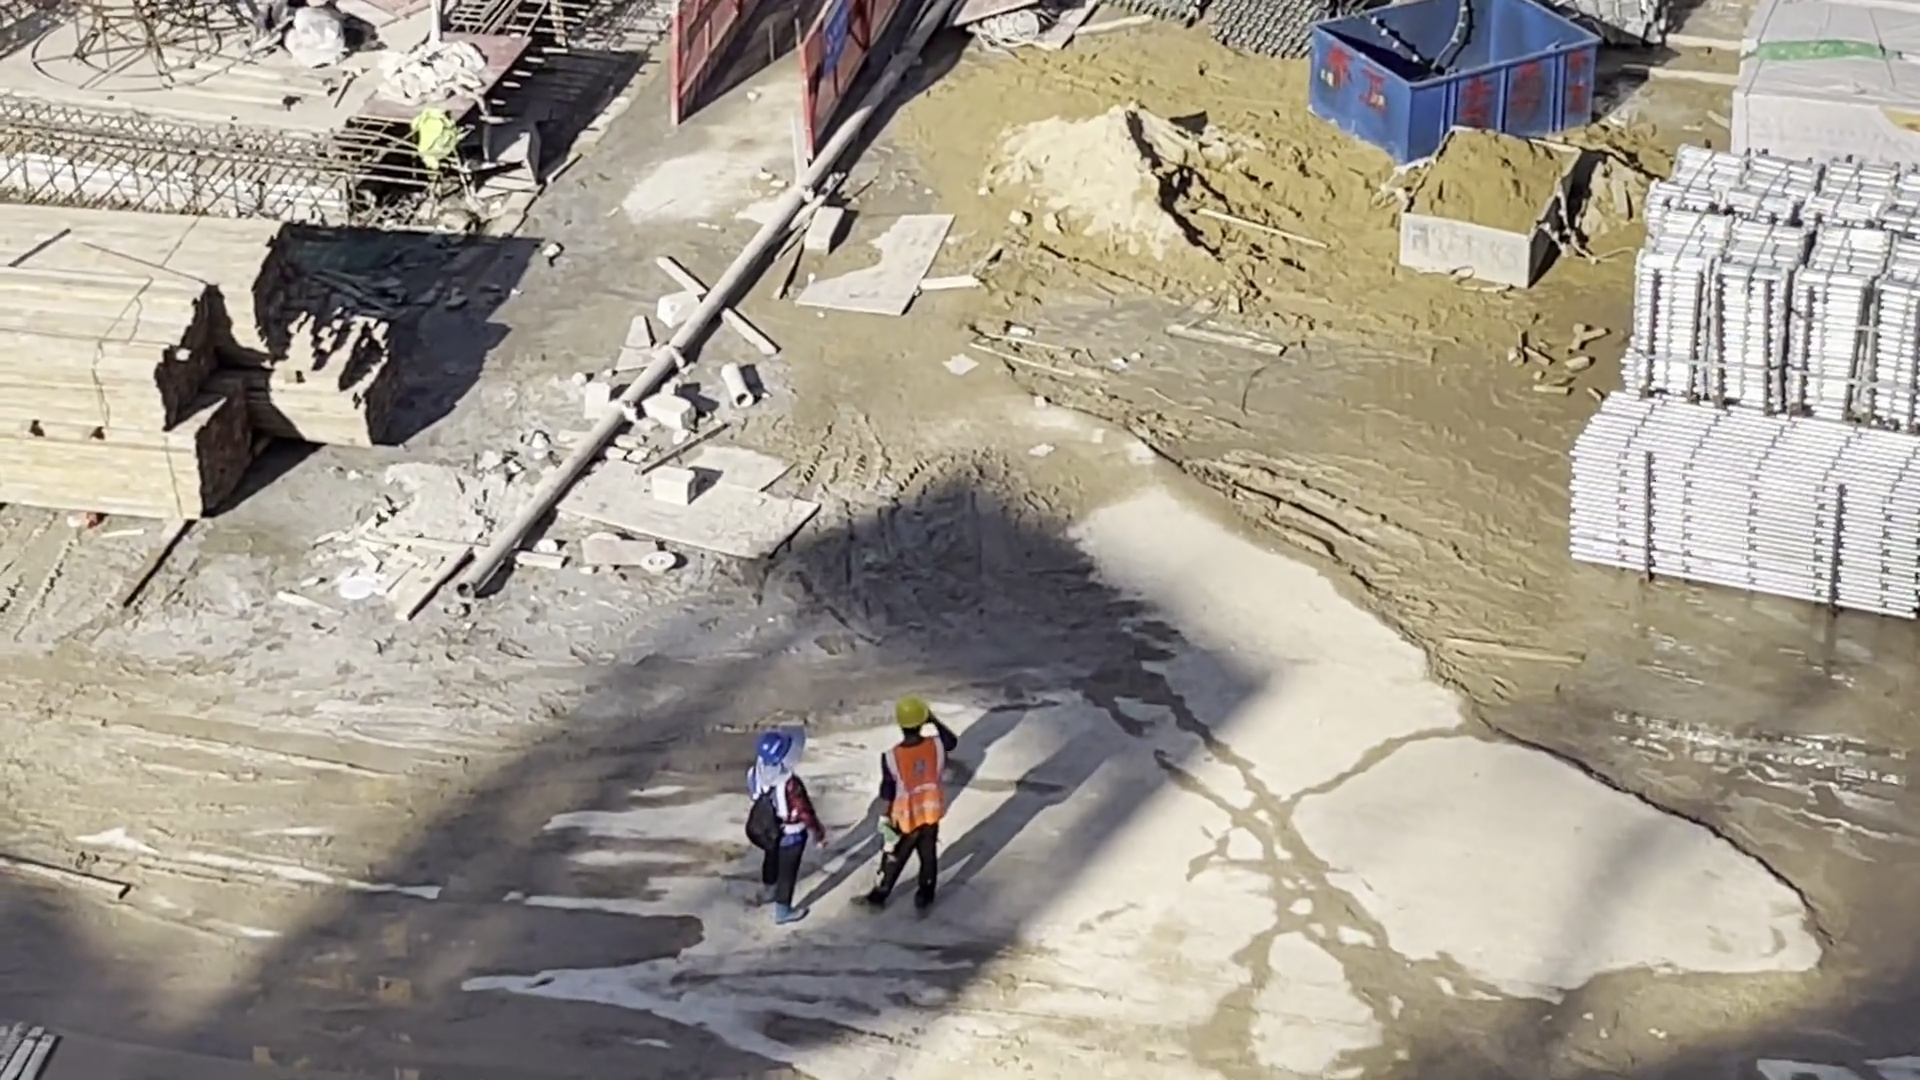fence: (671, 3, 898, 112)
helmet: (760, 731, 792, 764), (896, 699, 928, 728)
hopper: (1310, 1, 1591, 166), (1404, 126, 1578, 287)
person: (870, 701, 950, 910), (747, 727, 825, 926)
scaffold: (1636, 154, 1920, 416), (1586, 404, 1920, 625)
slogan: (827, 1, 848, 76)
vest: (881, 734, 944, 838), (748, 764, 805, 839)
wood: (1, 207, 292, 506)
